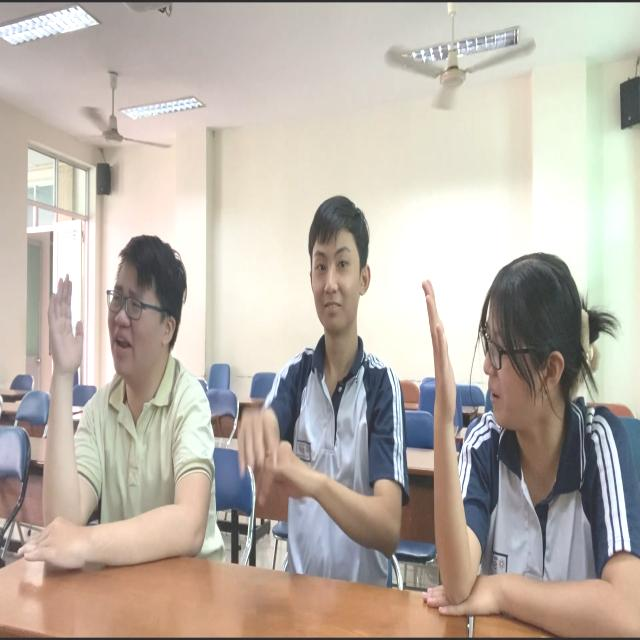raise_hand: (405, 231, 640, 640), (40, 224, 228, 579)
